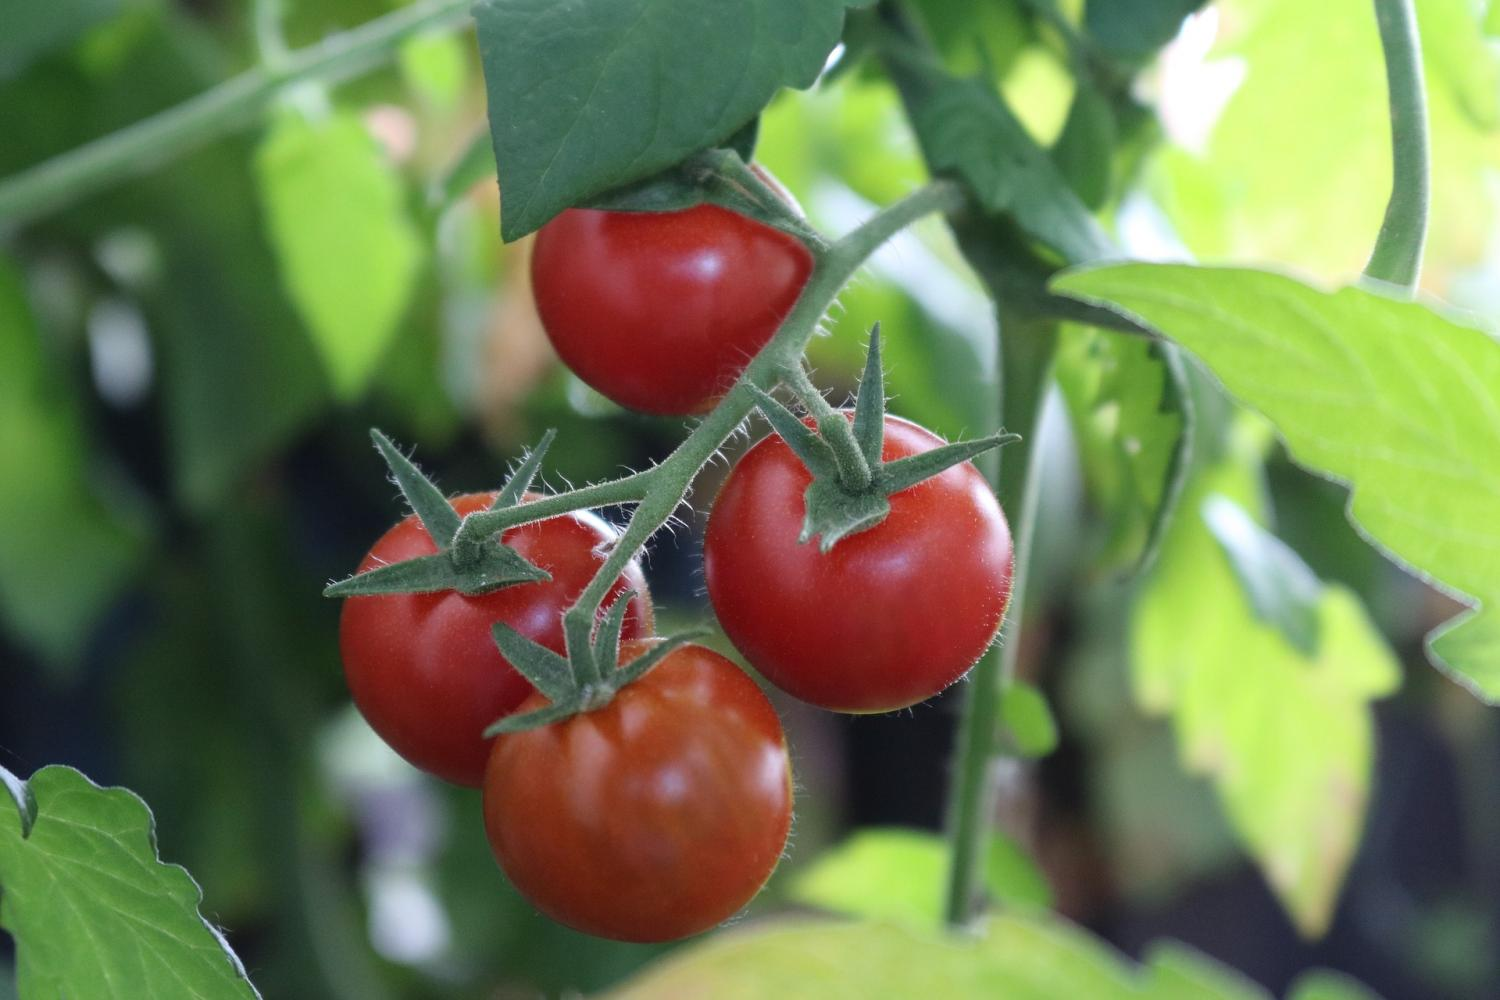tomato: (331, 482, 657, 785), (482, 638, 792, 943), (702, 407, 1012, 706), (535, 150, 808, 414)
